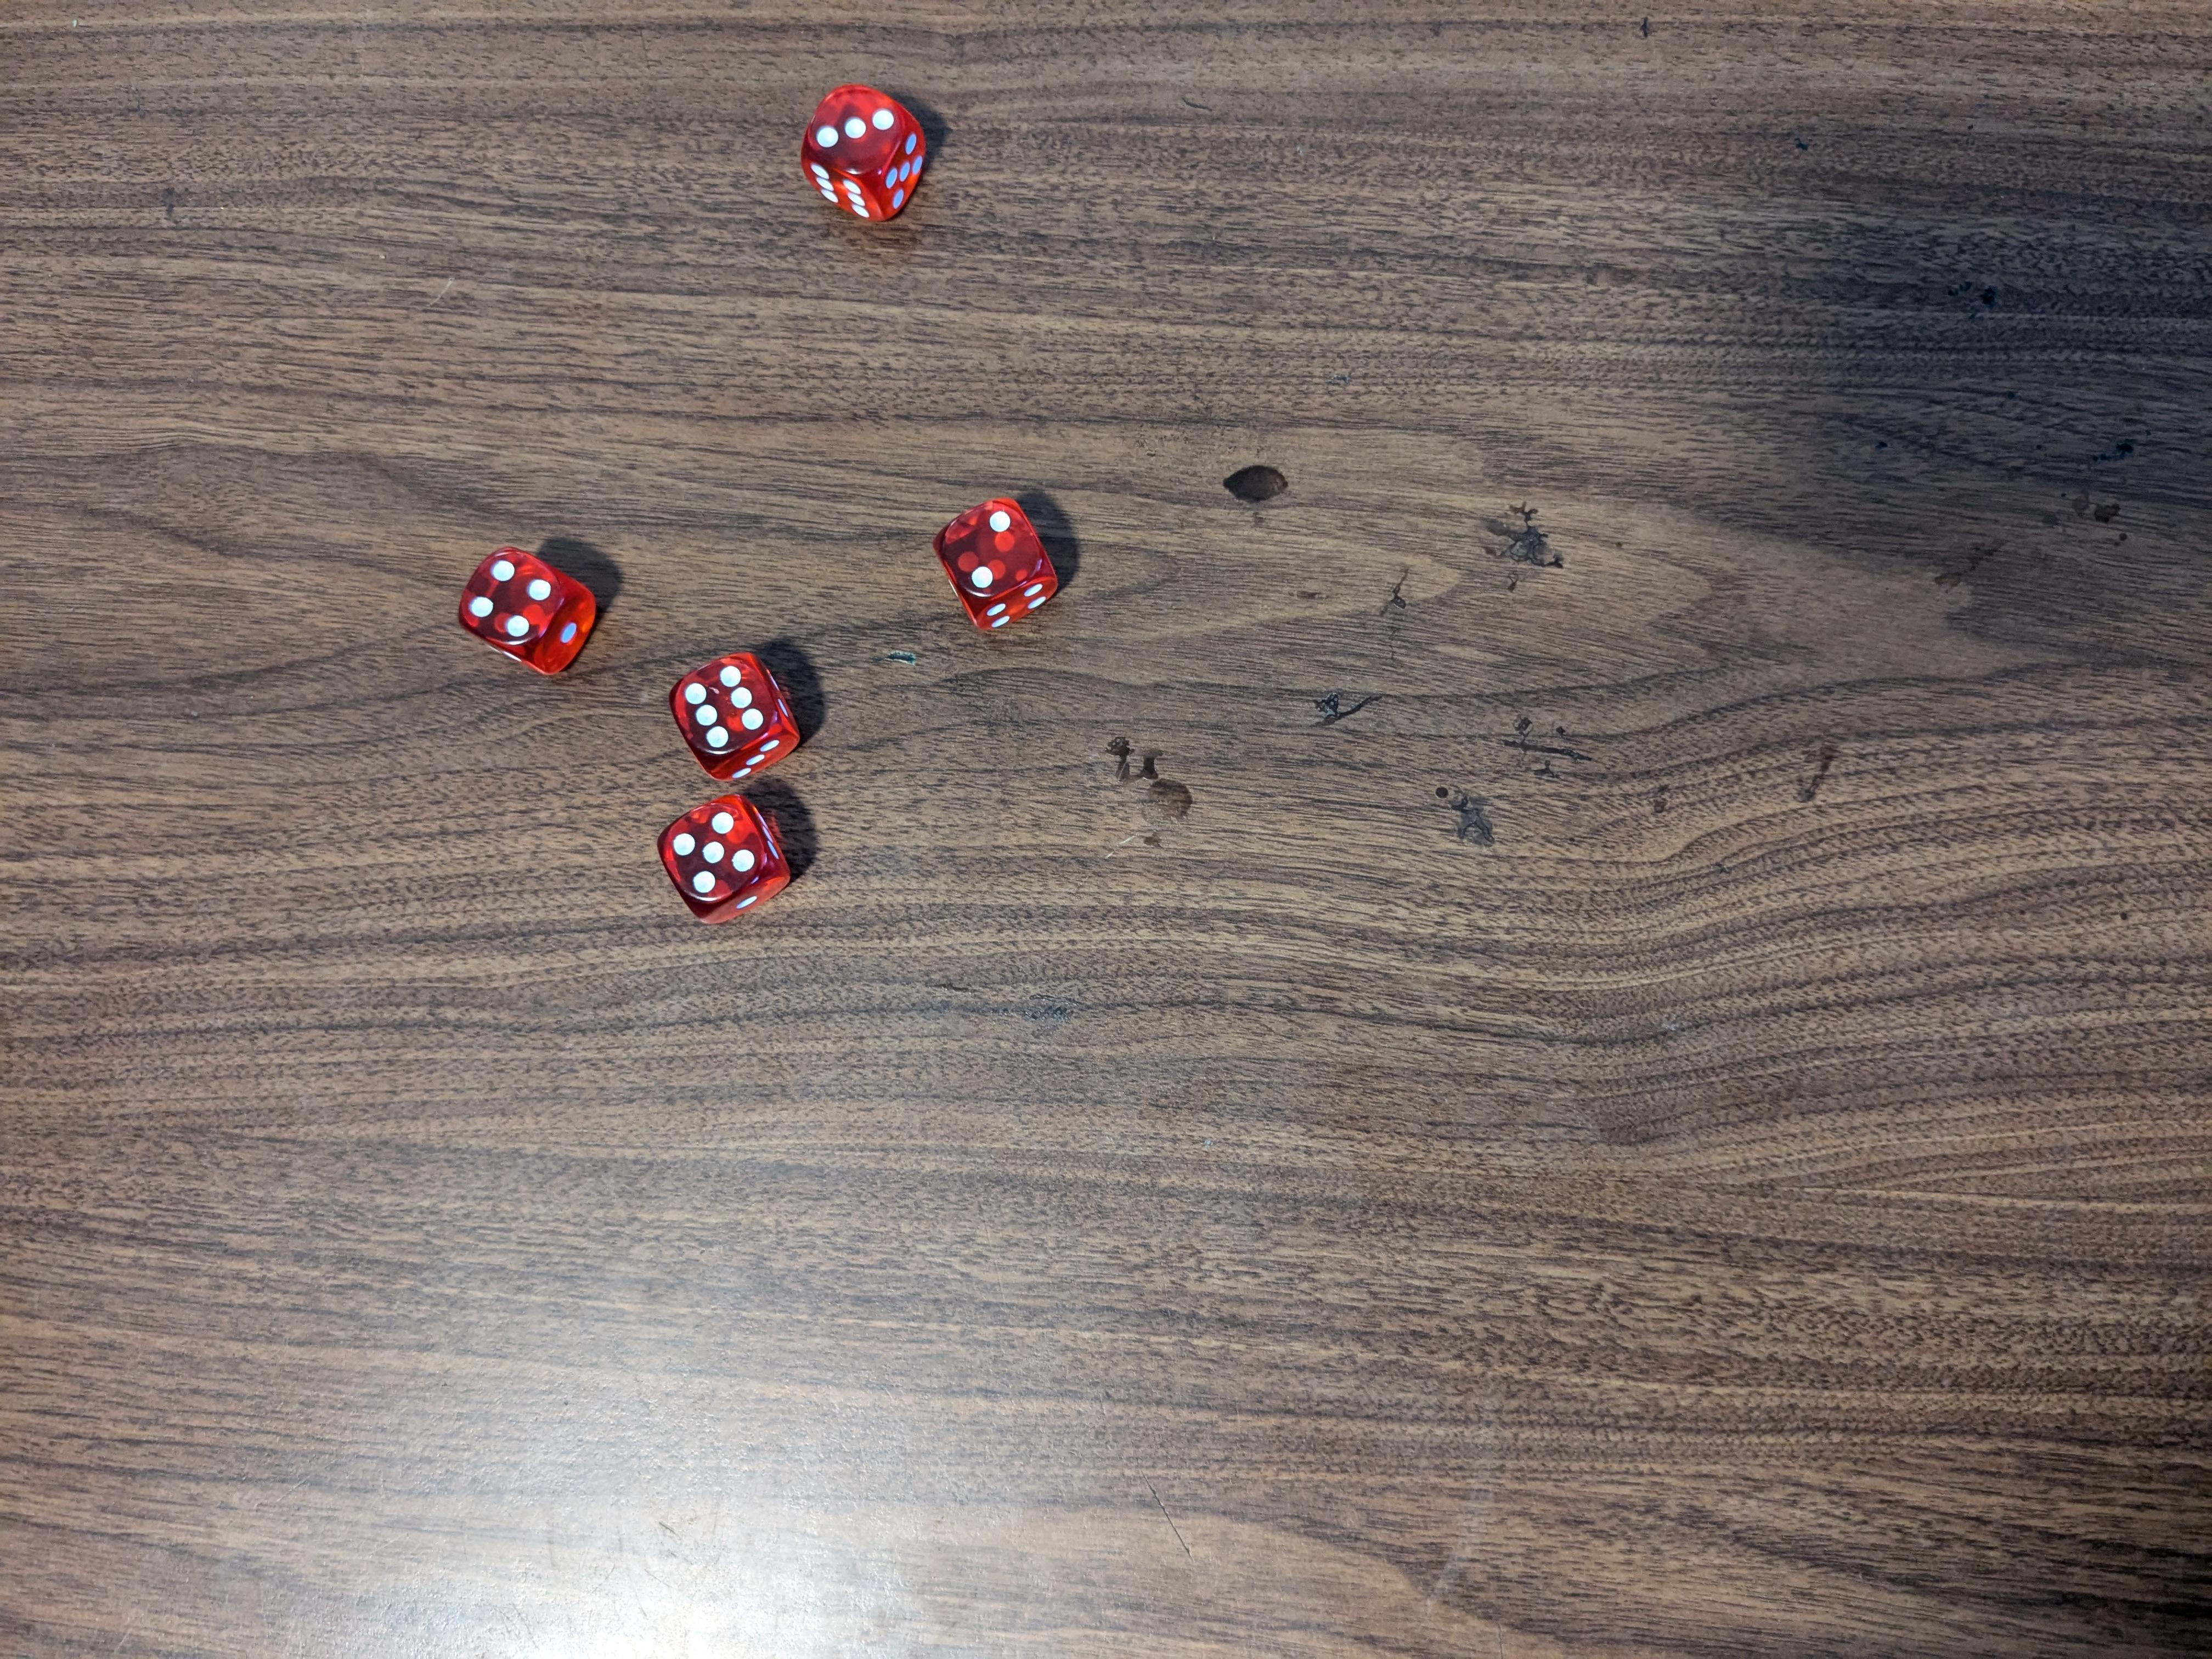five: (655, 788, 798, 938)
four: (453, 544, 601, 671)
six: (669, 650, 805, 784)
three: (799, 84, 932, 220)
two: (934, 490, 1061, 636)
